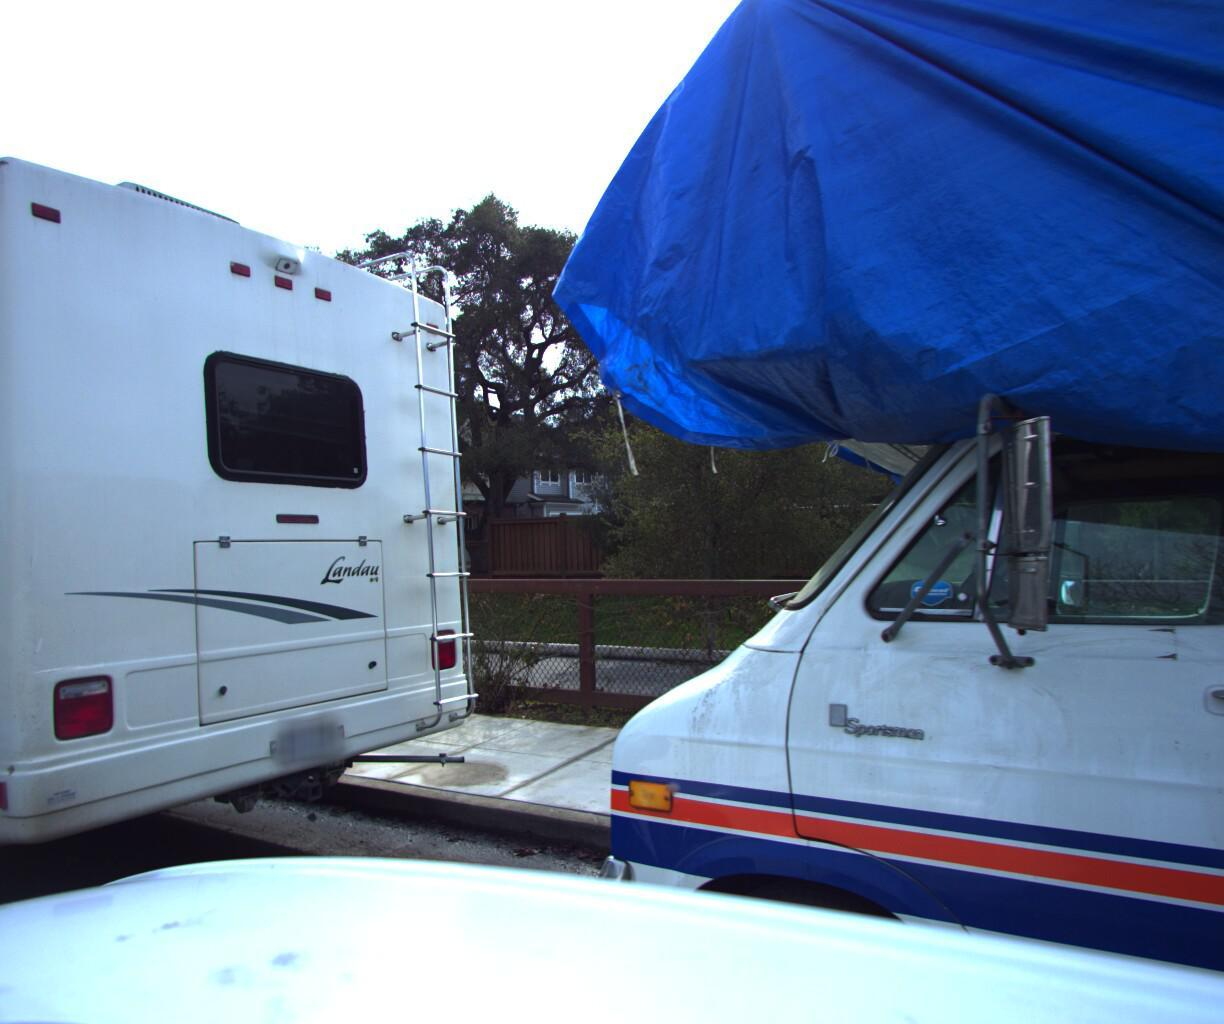other_vehicle: (0, 0, 508, 1024)
